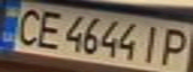4: (115, 19, 145, 61), (57, 12, 87, 54), (100, 17, 124, 60)
6: (78, 15, 103, 56)
C: (6, 6, 48, 47)
E: (27, 7, 66, 50)
I: (136, 22, 169, 65)
P: (157, 25, 193, 68)
